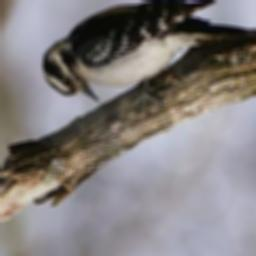Woodpecker: (29, 0, 255, 106)
